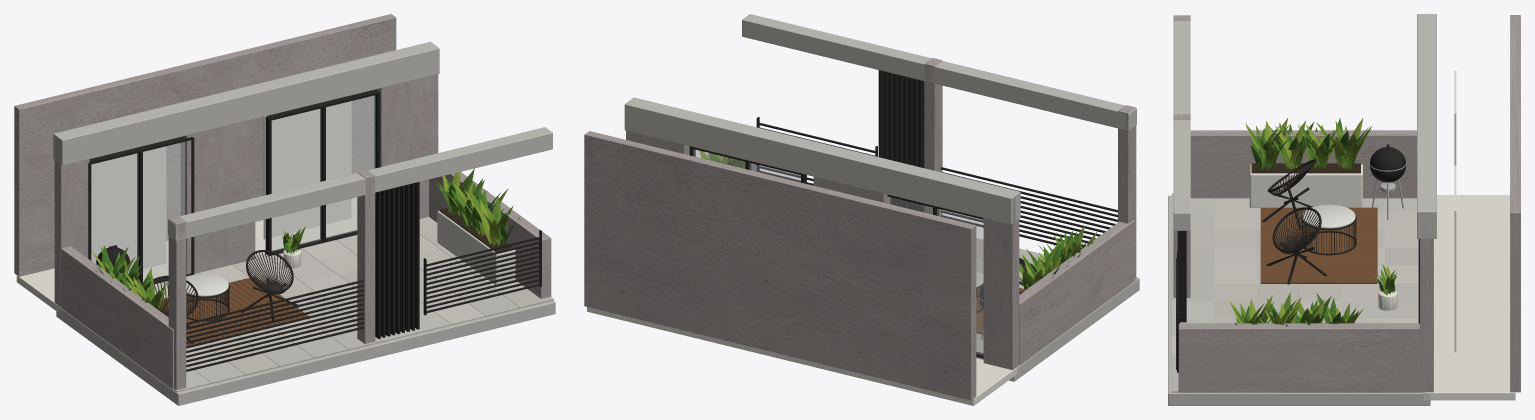
Rendered from terraza.glb.
3 views of the same model, side by side, from view 1: azimuth 30°, elevation 25°; view 2: azimuth 150°, elevation 25°; view 3: azimuth 270°, elevation 25° (orthographic). The views are drawn at different scales.
Visible parts, largest first — view 1: Pared fondo interior, Dintel continuo, Viga frontal, Machón fachada.001, Murete lateral, Cortina.001, Cortina, Losa, Machón fachada.002, Vidrio.042, Vidrio.043, Vidrio.041 (+49 smaller); view 2: Pared fondo interior, Dintel continuo, Viga frontal, Murete lateral, Machón fachada, Piso interior, Columna, Columna.001, Losa, Vidrio.040, Machón fachada.001, Parasol.008 (+10 smaller); view 3: Murete lateral.001, Piso interior, Murete lateral, Losa, Dintel continuo, Pared fondo interior, Viga frontal, Maceta rectangular, Machón fachada.002, Cuerpo parrilla, Tapa piedra, Sustrato (+48 smaller).
Boxes of the visible parts, x1,y1,x2,y2 form: Pared fondo interior: [14, 14, 396, 276]; Dintel continuo: [53, 41, 439, 165]; Viga frontal: [168, 127, 552, 240]; Machón fachada.001: [180, 119, 255, 274]; Murete lateral: [60, 246, 173, 389]; Cortina.001: [263, 101, 351, 239]; Cortina: [91, 146, 166, 272]; Losa: [56, 300, 555, 405]; Machón fachada.002: [376, 74, 438, 218]; Vidrio.042: [272, 109, 320, 251]; Vidrio.043: [326, 95, 375, 238]; Vidrio.041: [143, 142, 184, 281]; Pared fondo interior: [584, 131, 976, 400]; Dintel continuo: [624, 97, 1020, 224]; Viga frontal: [742, 14, 1136, 130]; Murete lateral: [1019, 220, 1134, 364]; Machón fachada: [983, 197, 1019, 369]; Piso interior: [587, 307, 1017, 405]; Columna: [1118, 105, 1136, 278]; Columna.001: [924, 58, 942, 216]; Losa: [1009, 278, 1139, 381]; Vidrio.040: [937, 209, 983, 355]; Machón fachada.001: [813, 176, 890, 203]; Parasol.008: [918, 80, 924, 212]; Murete lateral.001: [1178, 323, 1419, 392]; Piso interior: [1423, 195, 1515, 400]; Murete lateral: [1190, 130, 1416, 199]; Losa: [1168, 195, 1430, 405]; Dintel continuo: [1417, 14, 1436, 238]; Pared fondo interior: [1510, 15, 1520, 392]; Viga frontal: [1173, 21, 1190, 230]; Maceta rectangular: [1249, 164, 1362, 208]; Machón fachada.002: [1420, 214, 1433, 392]; Cuerpo parrilla: [1369, 147, 1406, 182]; Tapa piedra: [1302, 204, 1355, 228]; Sustrato: [1251, 163, 1360, 173].
Bounding box in the file's own units: 6.72 × 3.02 × 4.97.
Materials: 79 (1 with a texture image).
